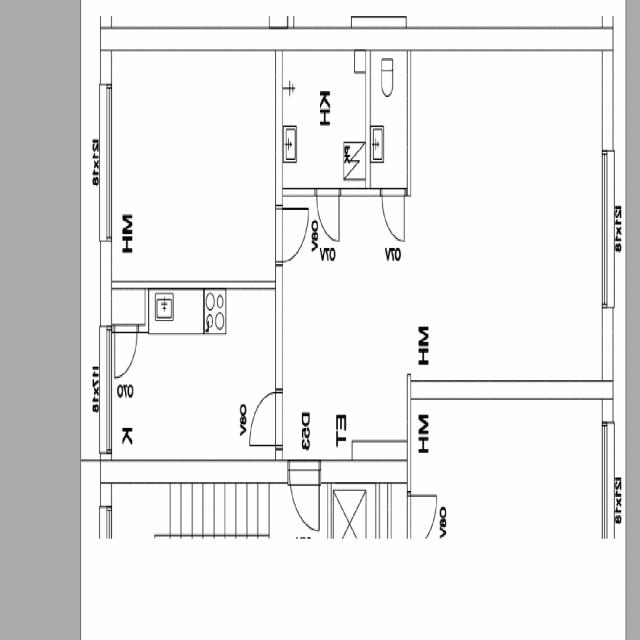door: (290, 459, 318, 541), (275, 209, 309, 262), (250, 394, 284, 446), (382, 188, 405, 243), (317, 188, 339, 243), (115, 326, 137, 378)
